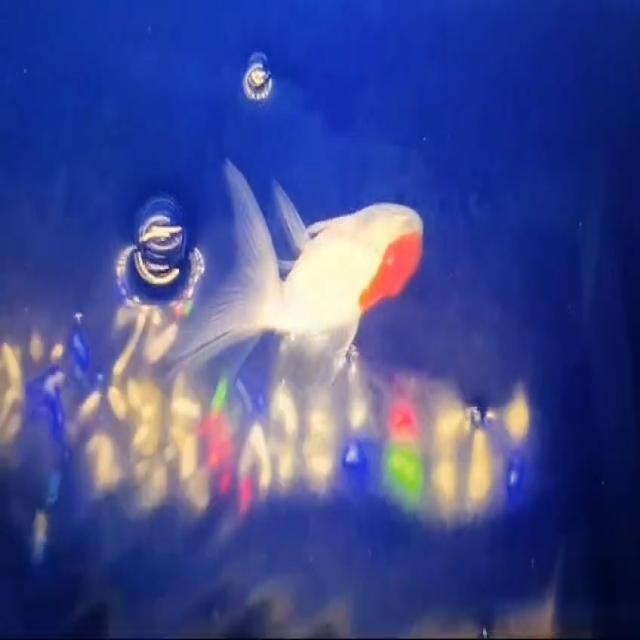fish: (180, 142, 428, 373)
